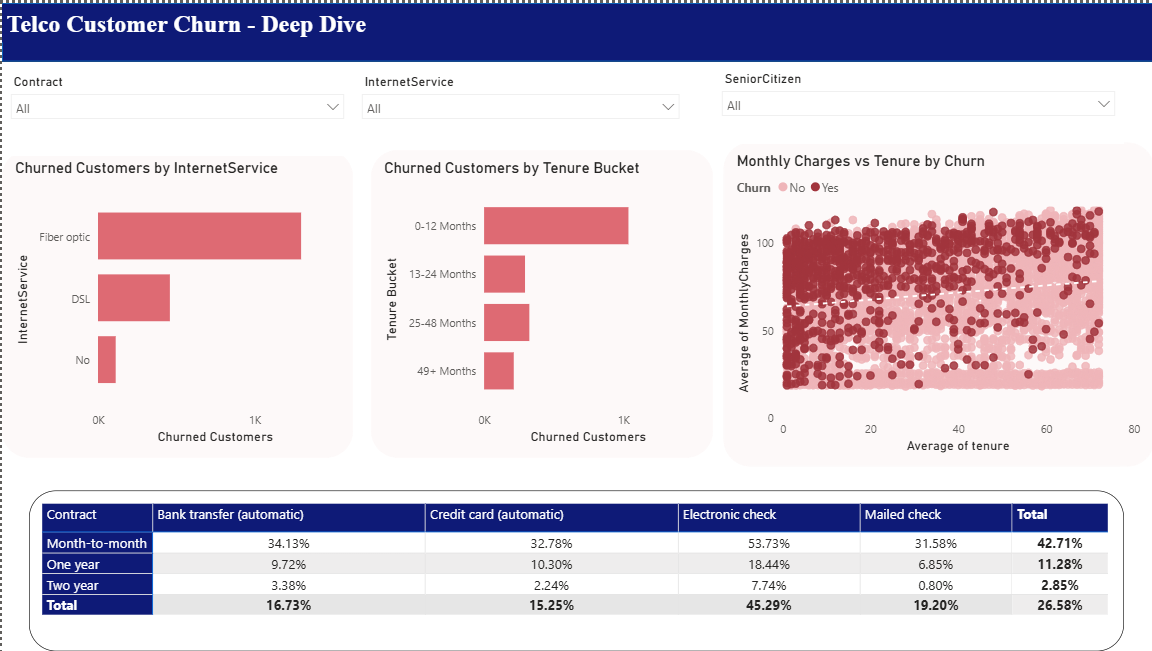

What the dashboard file says about the page in this screenshot:
{"tool":"powerbi","page":{"name":"Deep Dive","canvas":[1280,720],"ordinal":1},"visuals":[{"type":"clusteredBarChart","fields":{"Category":["churn_powerbi.InternetService"],"Y":["churn_powerbi.Churned Customers"]},"box":[0,360,390,341.7],"z":0},{"type":"clusteredBarChart","fields":{"Category":["churn_powerbi.Tenure Bucket"],"Y":["churn_powerbi.Churned Customers"]},"box":[405,360,380,341.7],"z":1000},{"type":"pivotTable","fields":{"Rows":["churn_powerbi.Contract"],"Columns":["churn_powerbi.PaymentMethod"],"Values":["churn_powerbi.Churn Rate"]},"box":[0,128.3,666.7,138.3],"z":2000},{"type":"scatterChart","fields":{"Category":["churn_powerbi.customerID"],"Y":["Avg(churn_powerbi.MonthlyCharges)"],"X":["Avg(churn_powerbi.tenure)"],"Series":["churn_powerbi.Churn"]},"box":[801.7,360,478.3,360],"z":3000},{"type":"slicer","fields":{"Values":["churn_powerbi.Contract"]},"box":[8.3,3.3,428.3,96.7],"z":4000},{"type":"slicer","fields":{"Values":["churn_powerbi.InternetService"]},"box":[480,3.3,403.3,83.3],"z":5000},{"type":"slicer","fields":{"Values":["churn_powerbi.SeniorCitizen"]},"box":[898.3,0,381.7,86.7],"z":6000}]}

Visuals, with their boxes in screenshot pixels (x1, y1, x2, y2), scaled from the page's 1280x720 canvas onto the 1152x651 screenshot:
clusteredBarChart - churn_powerbi.InternetService x churn_powerbi.Churned Customers: pyautogui.locateOnScreen(0, 326, 351, 634)
clusteredBarChart - churn_powerbi.Tenure Bucket x churn_powerbi.Churned Customers: pyautogui.locateOnScreen(364, 326, 706, 634)
pivotTable - churn_powerbi.Contract x churn_powerbi.PaymentMethod: pyautogui.locateOnScreen(0, 116, 600, 241)
scatterChart - churn_powerbi.customerID x Avg(churn_powerbi.MonthlyCharges): pyautogui.locateOnScreen(722, 326, 1151, 650)
slicer - churn_powerbi.Contract: pyautogui.locateOnScreen(7, 3, 393, 90)
slicer - churn_powerbi.InternetService: pyautogui.locateOnScreen(432, 3, 795, 78)
slicer - churn_powerbi.SeniorCitizen: pyautogui.locateOnScreen(808, 0, 1151, 78)
